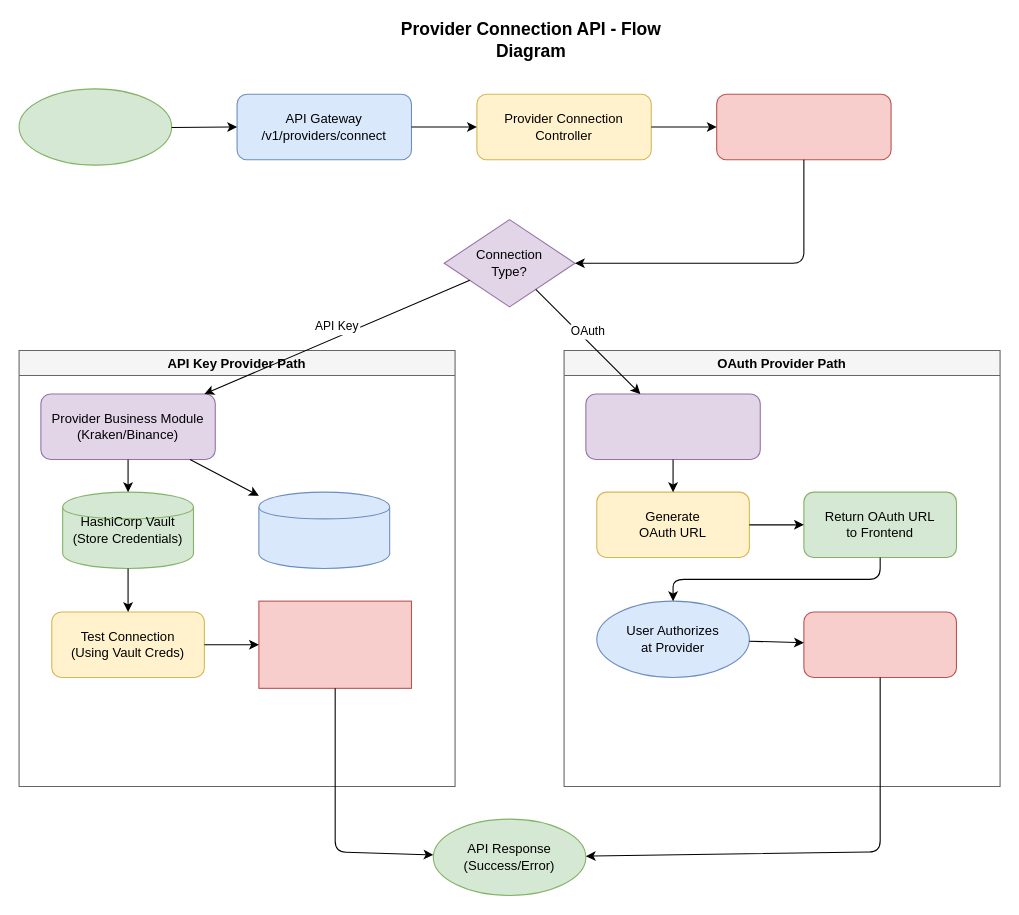
Image size: 1019x915. Some labels were removed from this diagram. Here are the shapes that lost their labels. From the top down, the centre of each, then its label:
At point (95, 126): "User Initiates Provider Connection".
At point (803, 126): "CreateProviderService (Orchestration Layer)".
At point (672, 426): "OAuth Provider Module (Coinbase/Alpaca)".
At point (324, 529): "Firestore (Store Metadata)".
At point (334, 644): "Provider API (Kraken/Binance)".
At point (879, 644): "OAuth Callback Handler".
